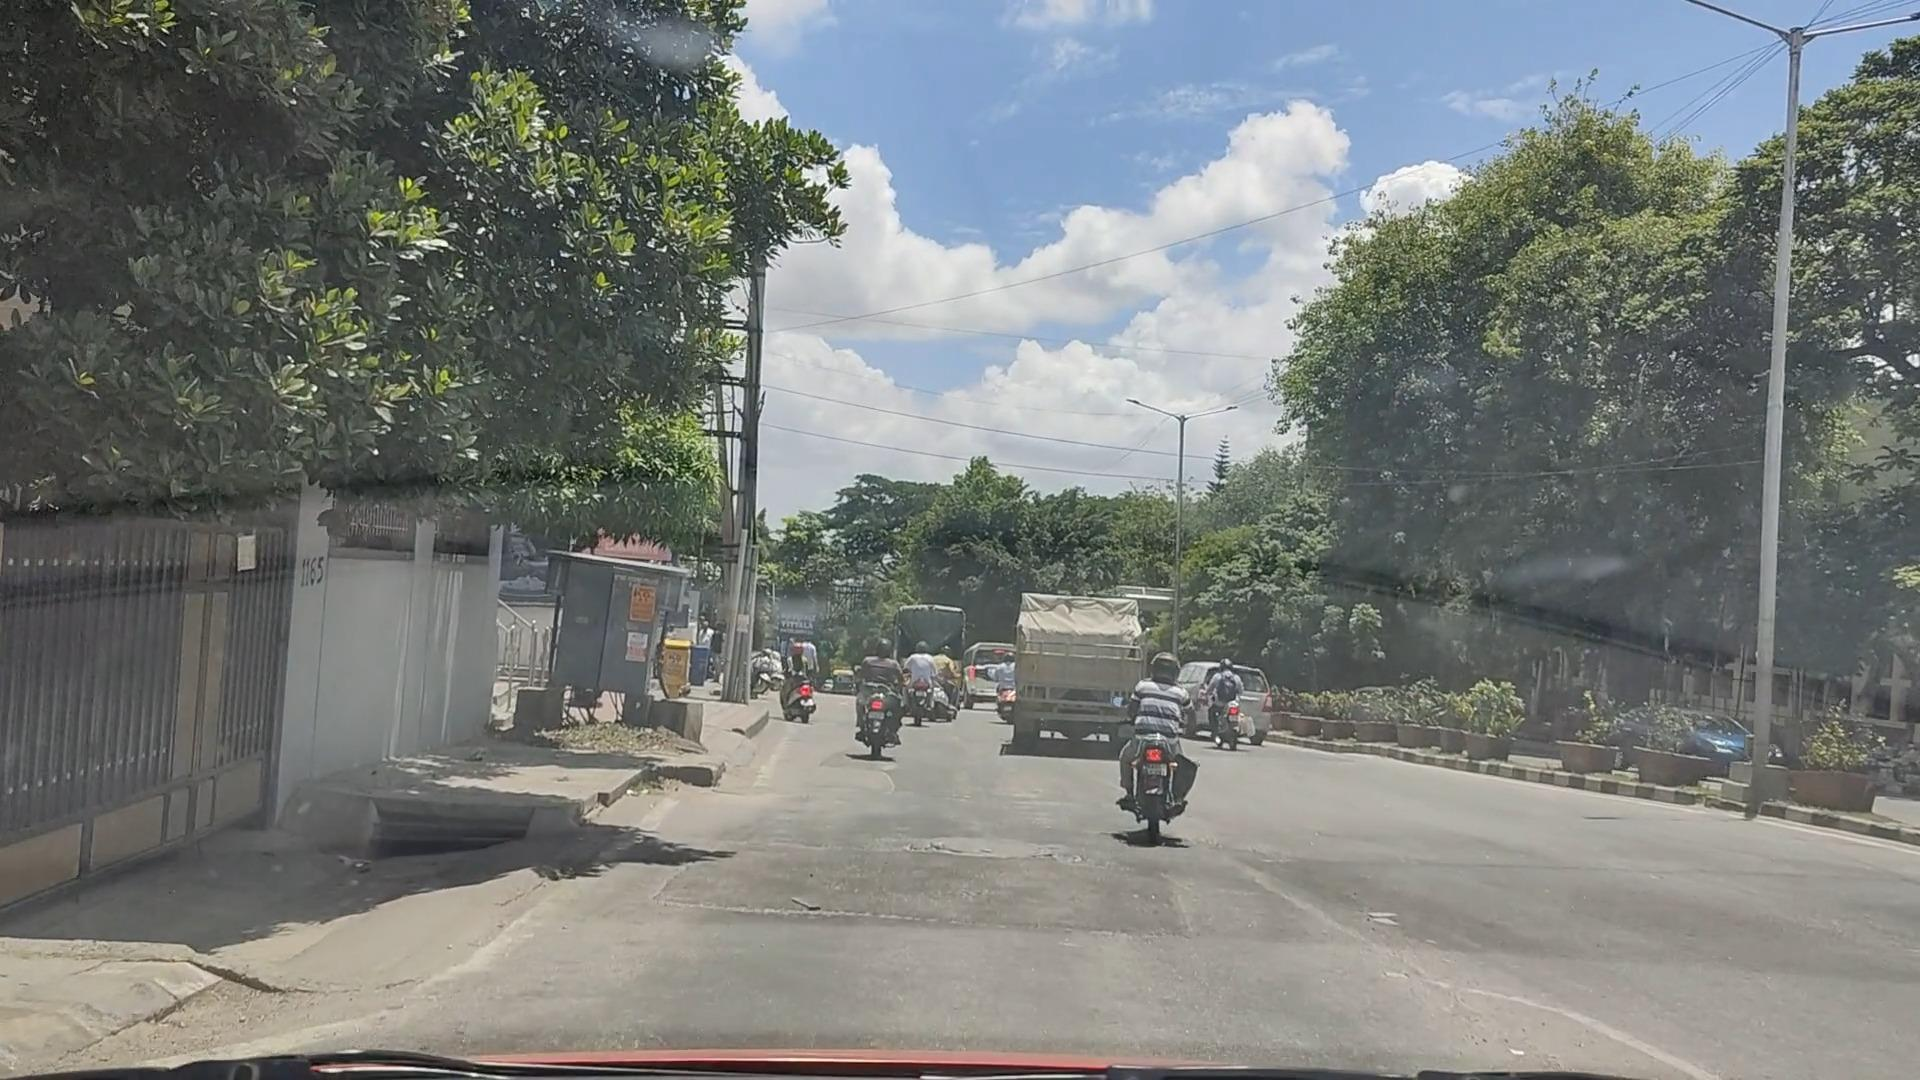HMV: (986, 574, 1151, 748), (891, 588, 990, 721)
RoadDamages: (874, 796, 1106, 890), (637, 874, 898, 945)
